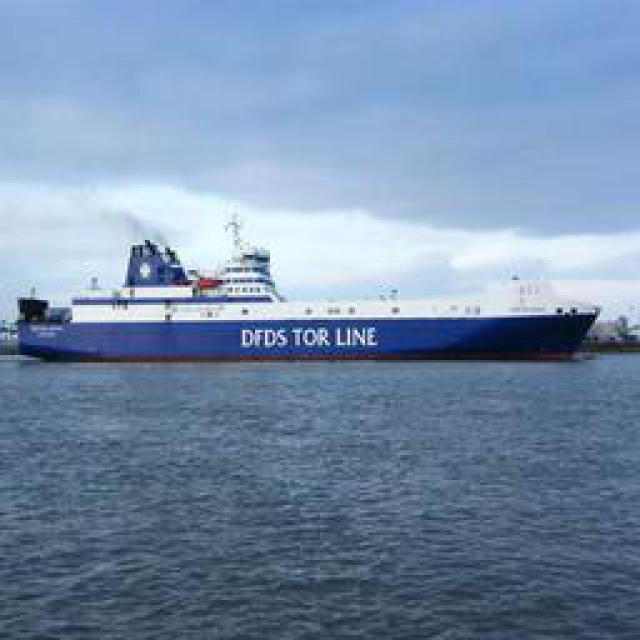Ship: (16, 219, 621, 369)
